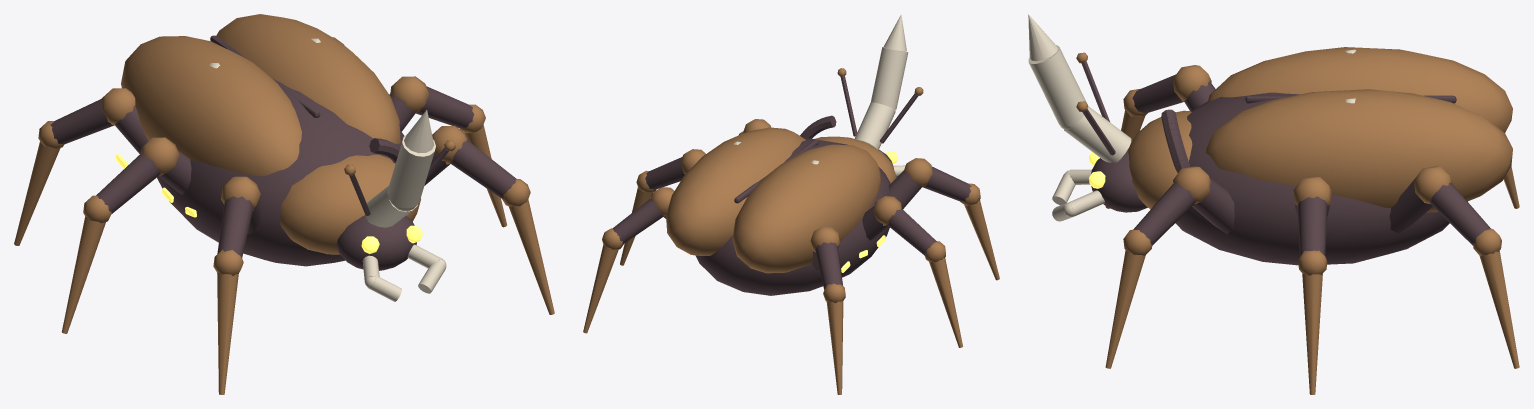
Rendered from Brute.glb.
3 views of the same model, side by side, from view 1: azimuth 30°, elevation 25°; view 2: azimuth 150°, elevation 25°; view 3: azimuth 270°, elevation 25° (orthographic). The views are drawn at different scales.
Parts seen in each view (by area): view 1: Brute; view 2: Brute; view 3: Brute.
Part boxes in pixels (x1,y1,x2,y2): Brute: (14,14,554,394); Brute: (583,14,999,394); Brute: (1028,14,1519,394).
Size of the model in its own units: 1.33 by 0.7886 by 1.28.
